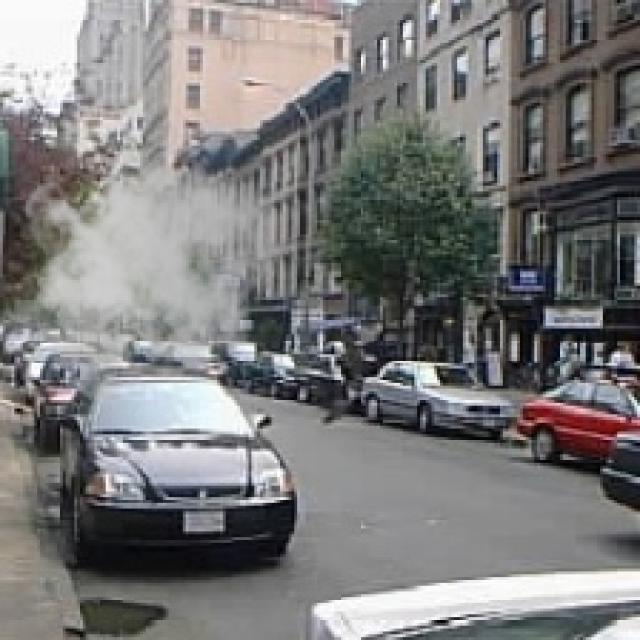smoke: (17, 131, 286, 400)
